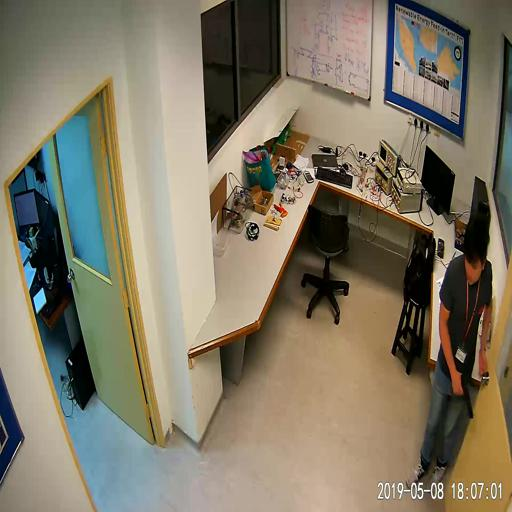pistol: (450, 371, 473, 420)
